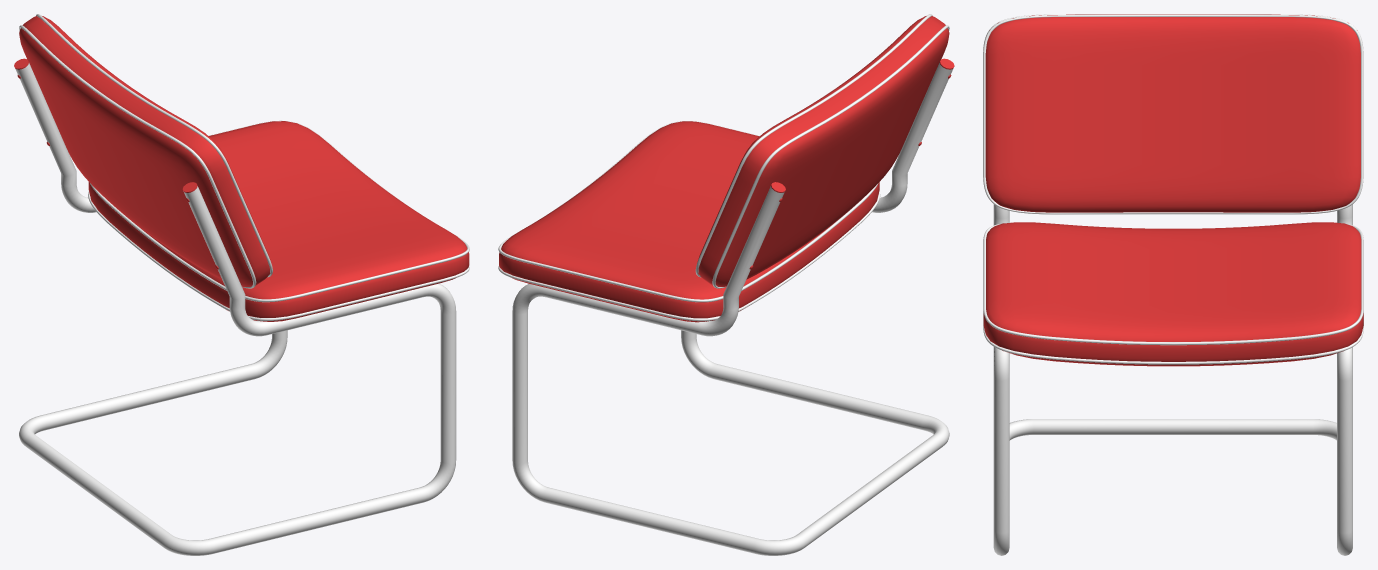
The picture shows the model from 3 angles, left to right: view 1: azimuth 30°, elevation 25°; view 2: azimuth 150°, elevation 25°; view 3: azimuth 270°, elevation 25°; orthographic projection.
Parts seen in each view (by area): view 1: seat, top seat, Chair body_stol ram_0; view 2: seat, top seat, Chair body_stol ram_0; view 3: top seat, seat, Chair body_stol ram_0.
Boxes of the visible parts, x1,y1,x2,y2 form: seat: [88, 120, 469, 321]; top seat: [19, 14, 272, 288]; Chair body_stol ram_0: [15, 63, 456, 555]; seat: [498, 121, 880, 322]; top seat: [695, 14, 949, 288]; Chair body_stol ram_0: [512, 63, 953, 555]; top seat: [983, 14, 1363, 214]; seat: [983, 222, 1363, 366]; Chair body_stol ram_0: [993, 204, 1352, 555].
Bounding box in the file's own units: 560 × 744 × 601.
